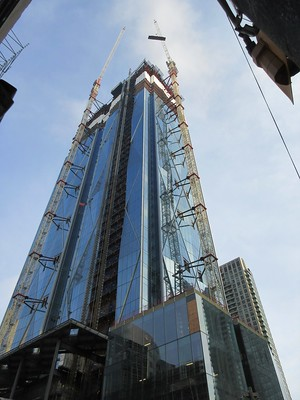medium: (0, 57, 249, 397)
